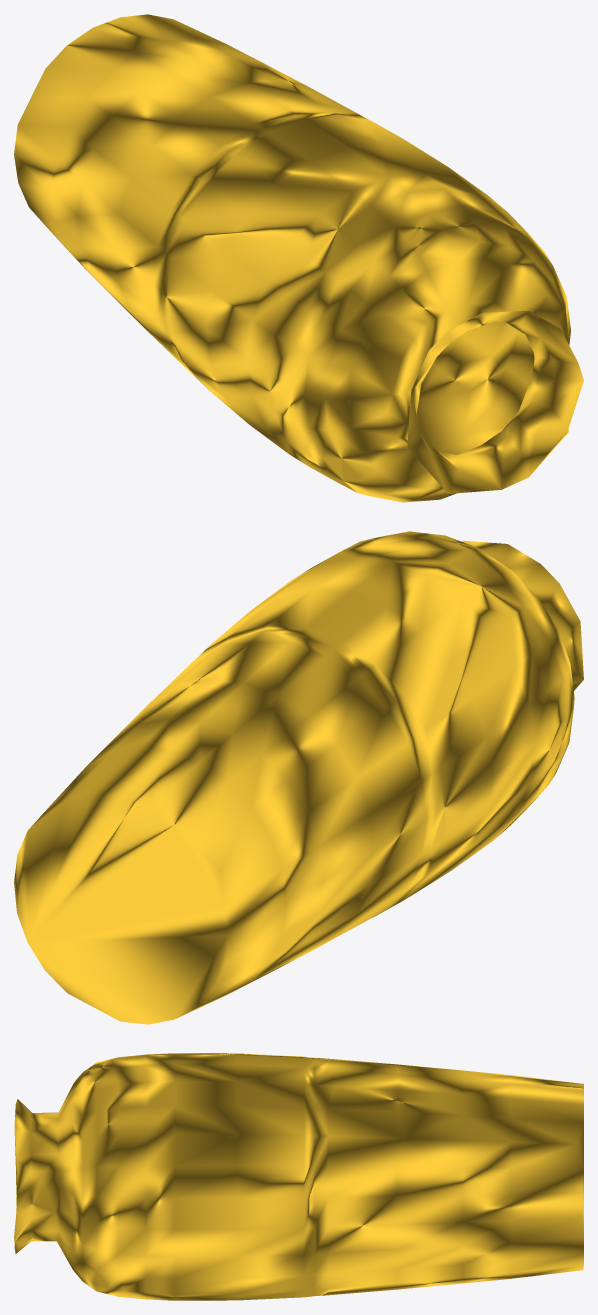
File: model_align.obj
The picture shows the model from 3 angles, top to bottom: view 1: azimuth 30°, elevation 25°; view 2: azimuth 150°, elevation 25°; view 3: azimuth 270°, elevation 25°; orthographic projection. The views are drawn at different scales.
Bounding box in the file's own units: 0.1124 × 0.1124 × 0.2576.
